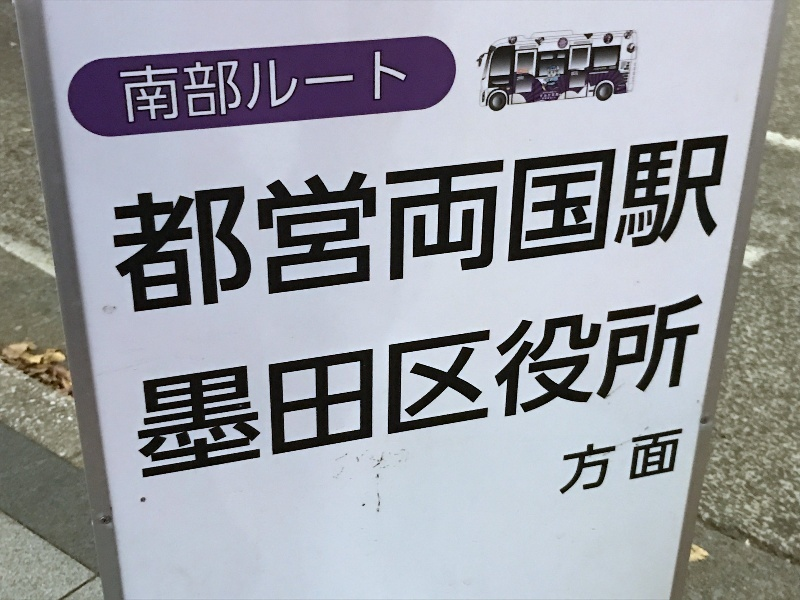text: (145, 293, 160, 485), (161, 293, 176, 485), (177, 293, 192, 485), (193, 293, 208, 485), (209, 293, 224, 485), (225, 293, 240, 485), (241, 293, 256, 485), (257, 293, 272, 485), (273, 293, 288, 485), (289, 293, 304, 485), (305, 293, 320, 485), (321, 293, 336, 485), (337, 293, 352, 485), (353, 293, 368, 485), (369, 293, 384, 485), (385, 293, 400, 485), (401, 293, 416, 485), (417, 293, 432, 485), (433, 293, 448, 485), (449, 293, 464, 485), (465, 293, 480, 485), (481, 293, 496, 485), (497, 293, 512, 485), (513, 293, 528, 485), (529, 293, 544, 485), (545, 293, 560, 485), (561, 293, 576, 485), (577, 293, 592, 485), (593, 293, 608, 485), (609, 293, 624, 485), (625, 293, 640, 485), (641, 293, 656, 485), (657, 293, 672, 485), (673, 293, 688, 485), (689, 293, 704, 485), (113, 130, 128, 320), (129, 130, 144, 320), (145, 130, 160, 320), (161, 130, 176, 320), (177, 130, 192, 320), (193, 130, 208, 320), (209, 130, 224, 320), (225, 130, 240, 320), (241, 130, 256, 320), (257, 130, 272, 320), (273, 130, 288, 320), (289, 130, 304, 320), (305, 130, 320, 320), (321, 130, 336, 320), (337, 130, 352, 320), (353, 130, 368, 320), (369, 130, 384, 320), (385, 130, 400, 320), (401, 130, 416, 320), (417, 130, 432, 320), (433, 130, 448, 320), (449, 130, 464, 320), (465, 130, 480, 320), (481, 130, 496, 320), (497, 130, 512, 320), (513, 130, 528, 320), (529, 130, 544, 320), (545, 130, 560, 320), (561, 130, 576, 320), (577, 130, 592, 320), (593, 130, 608, 320), (609, 130, 624, 320), (625, 130, 640, 320), (641, 130, 656, 320), (657, 130, 672, 320), (673, 130, 688, 320), (689, 130, 704, 320), (705, 130, 720, 320), (721, 130, 732, 320), (135, 293, 144, 485), (129, 48, 144, 127), (145, 48, 160, 127), (161, 48, 176, 127), (177, 48, 192, 127), (193, 48, 208, 127), (209, 48, 224, 127), (225, 48, 240, 127), (241, 48, 256, 127), (257, 48, 272, 127), (273, 48, 288, 127), (289, 48, 304, 127), (305, 48, 320, 127), (321, 48, 336, 127), (337, 48, 352, 127), (353, 48, 368, 127), (369, 48, 384, 127), (385, 48, 400, 127), (401, 48, 416, 127), (577, 424, 592, 498), (593, 424, 608, 498), (609, 424, 624, 498), (625, 424, 640, 498), (641, 424, 656, 498), (657, 424, 672, 498), (563, 424, 576, 498), (673, 424, 686, 498), (118, 48, 128, 127), (108, 130, 112, 320), (705, 293, 708, 485)
